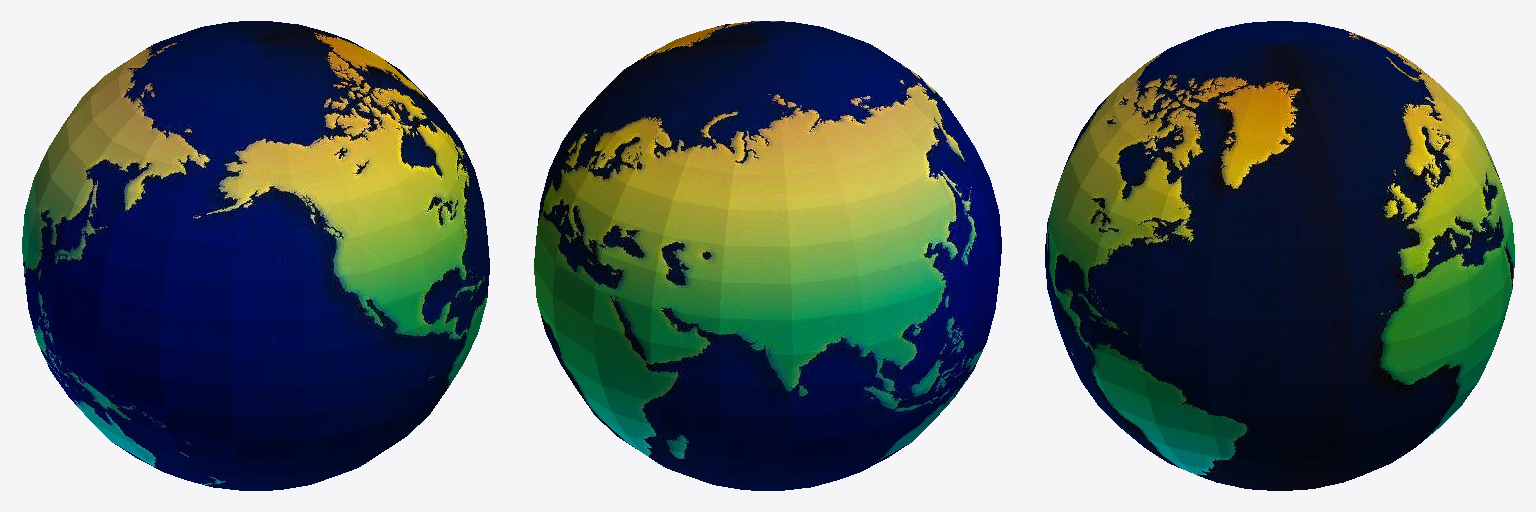
3 renders of one model, left to right at view 1: azimuth 30°, elevation 25°; view 2: azimuth 150°, elevation 25°; view 3: azimuth 270°, elevation 25°, orthographic.
Parts seen in each view (by area): view 1: pSphere1; view 2: pSphere1; view 3: pSphere1.
Part boxes in pixels (left/top/right/bottom): pSphere1: left=22, top=21, right=489, bottom=490; pSphere1: left=534, top=21, right=1001, bottom=490; pSphere1: left=1045, top=21, right=1514, bottom=490.
Size of the model in its own units: 1 by 1 by 1.
Materials: 1 (1 with a texture image).